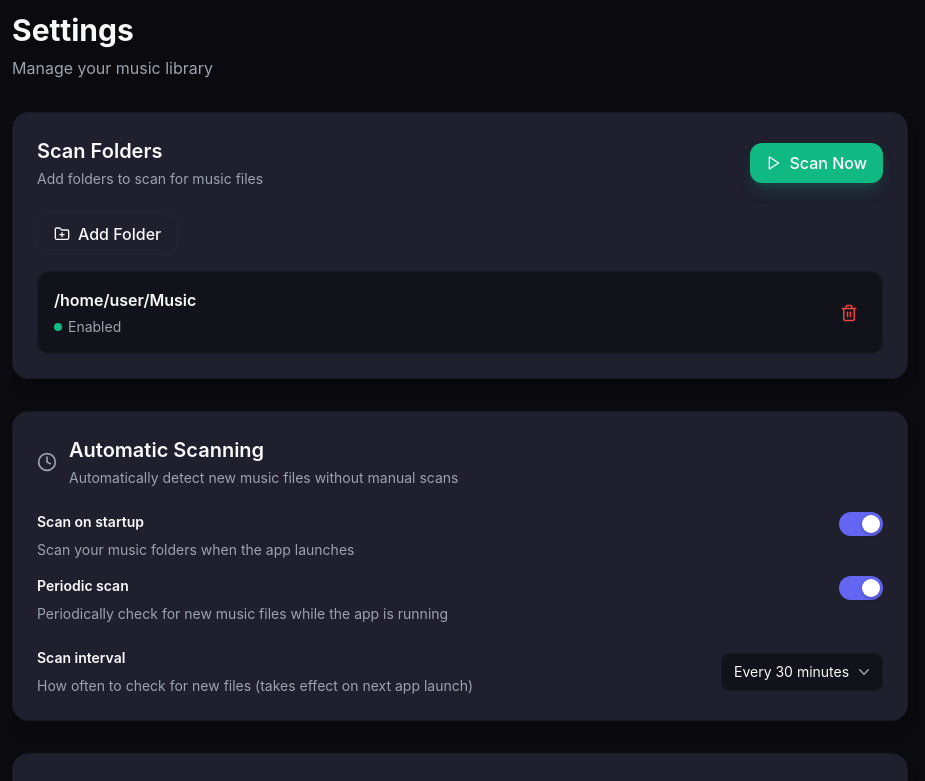
Test: Settings › Error list in scan results › toggles error list visibility
The width and height of the screenshot is (925, 781).
Step 1. Click the button "Scan Now" → (816, 163), box [750, 143, 883, 183]
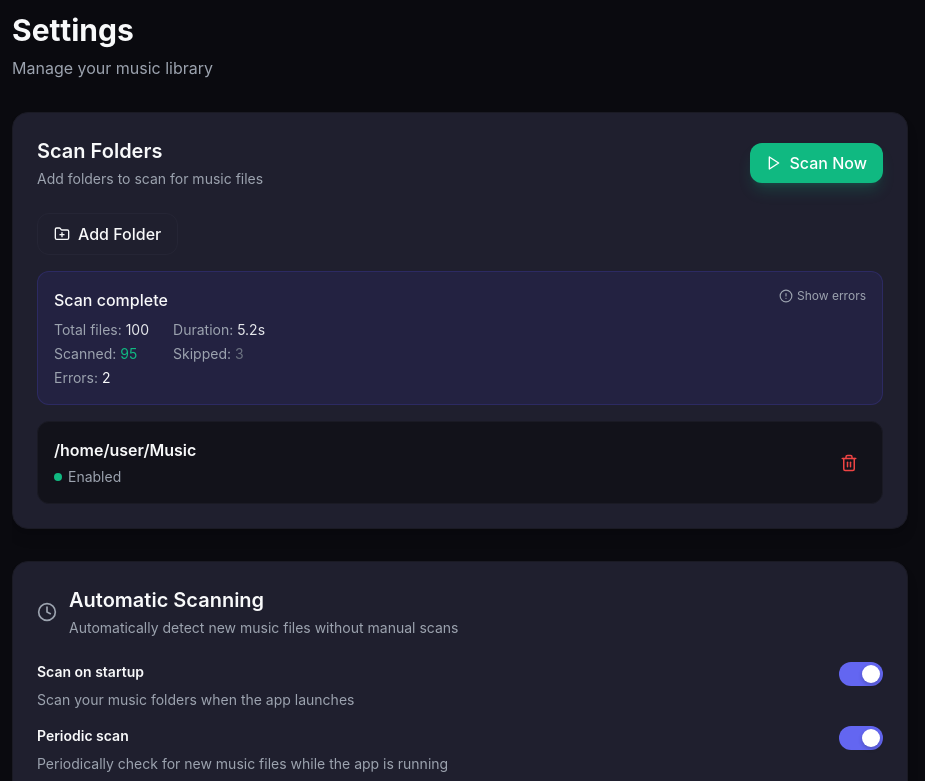
Check: the button "Show errors" is shown
Step 2. Click the button "Show errors" → (822, 296), box [779, 288, 866, 304]
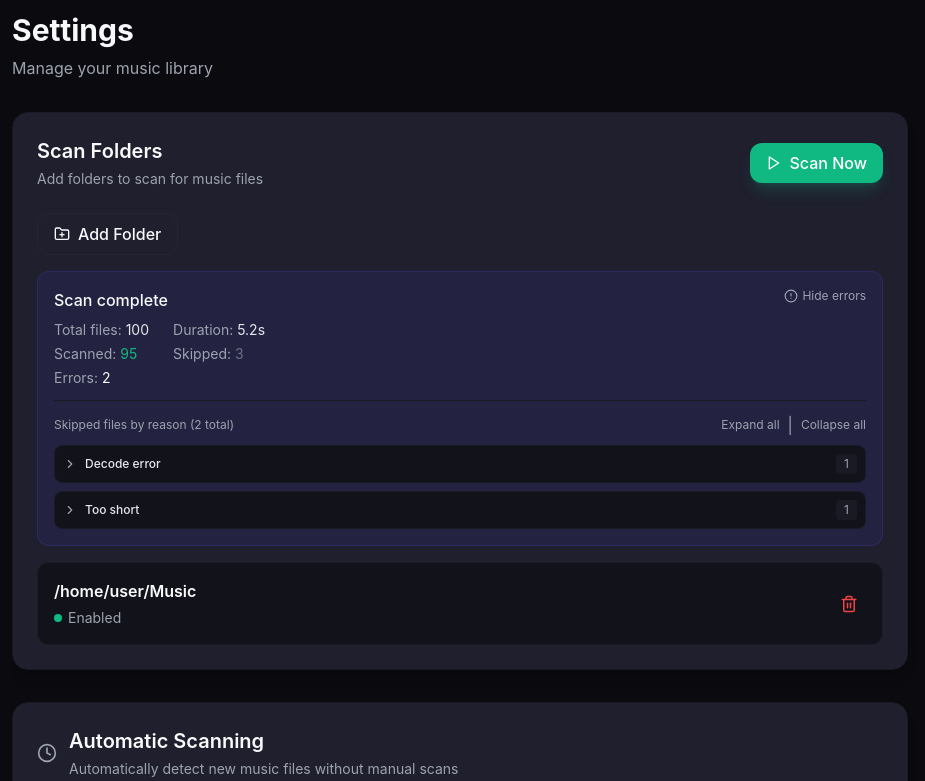
Check: the button "Hide errors" is shown, box [784, 288, 866, 304]
